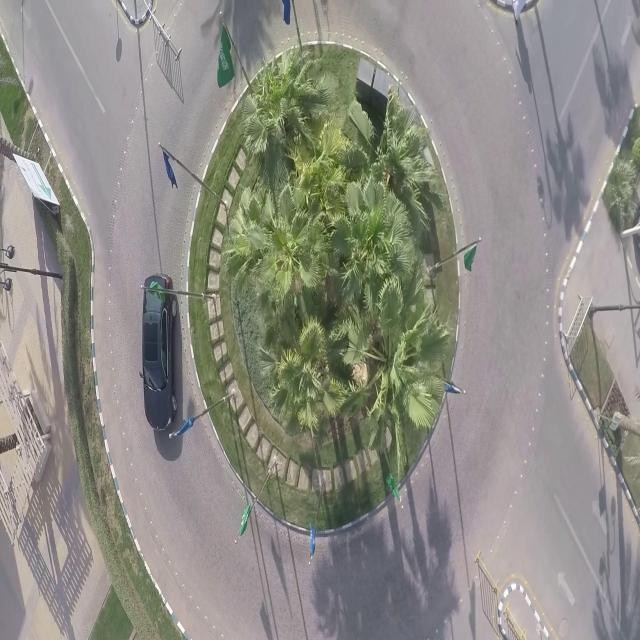car: (141, 272, 179, 433)
